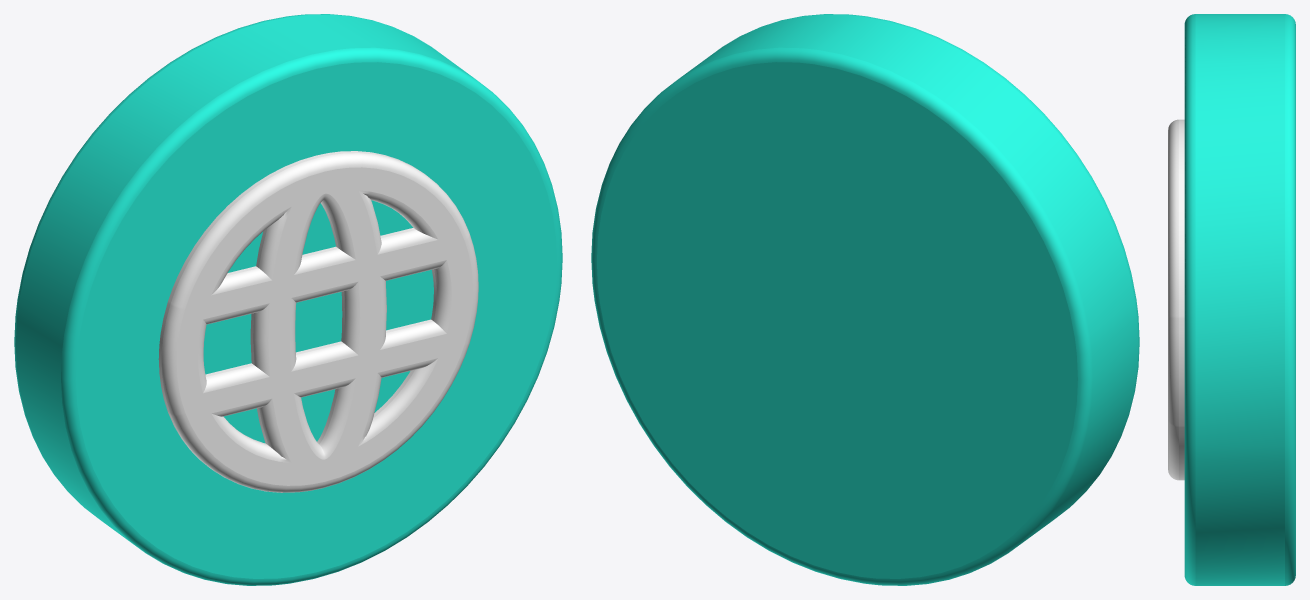
File: web.gltf
3 renders of one model, left to right at view 1: azimuth 30°, elevation 25°; view 2: azimuth 150°, elevation 25°; view 3: azimuth 270°, elevation 25°, orthographic.
Visible parts, largest first — view 1: キャップ 1 (×2), 丸み 1 (×2), Path (×2), 丸み 2; view 2: キャップ 2, Path, 丸み 2, 丸み 1; view 3: Path (×2), 丸み 1 (×2), 丸み 2.
Part boxes in pixels (left/top/right/bottom): キャップ 1 (×2): left=76, top=62, right=556, bottom=578; 丸み 1 (×2): left=61, top=47, right=562, bottom=585; Path (×2): left=15, top=14, right=474, bottom=550; 丸み 2: left=14, top=14, right=392, bottom=485; キャップ 2: left=597, top=62, right=1077, bottom=578; Path: left=679, top=14, right=1138, bottom=550; 丸み 2: left=591, top=47, right=1092, bottom=585; 丸み 1: left=761, top=14, right=1139, bottom=485; Path (×2): left=1179, top=14, right=1284, bottom=585; 丸み 1 (×2): left=1168, top=14, right=1195, bottom=585; 丸み 2: left=1285, top=14, right=1295, bottom=585.
Bounding box in the file's own units: 0.0416 × 0.0416 × 0.0093.
